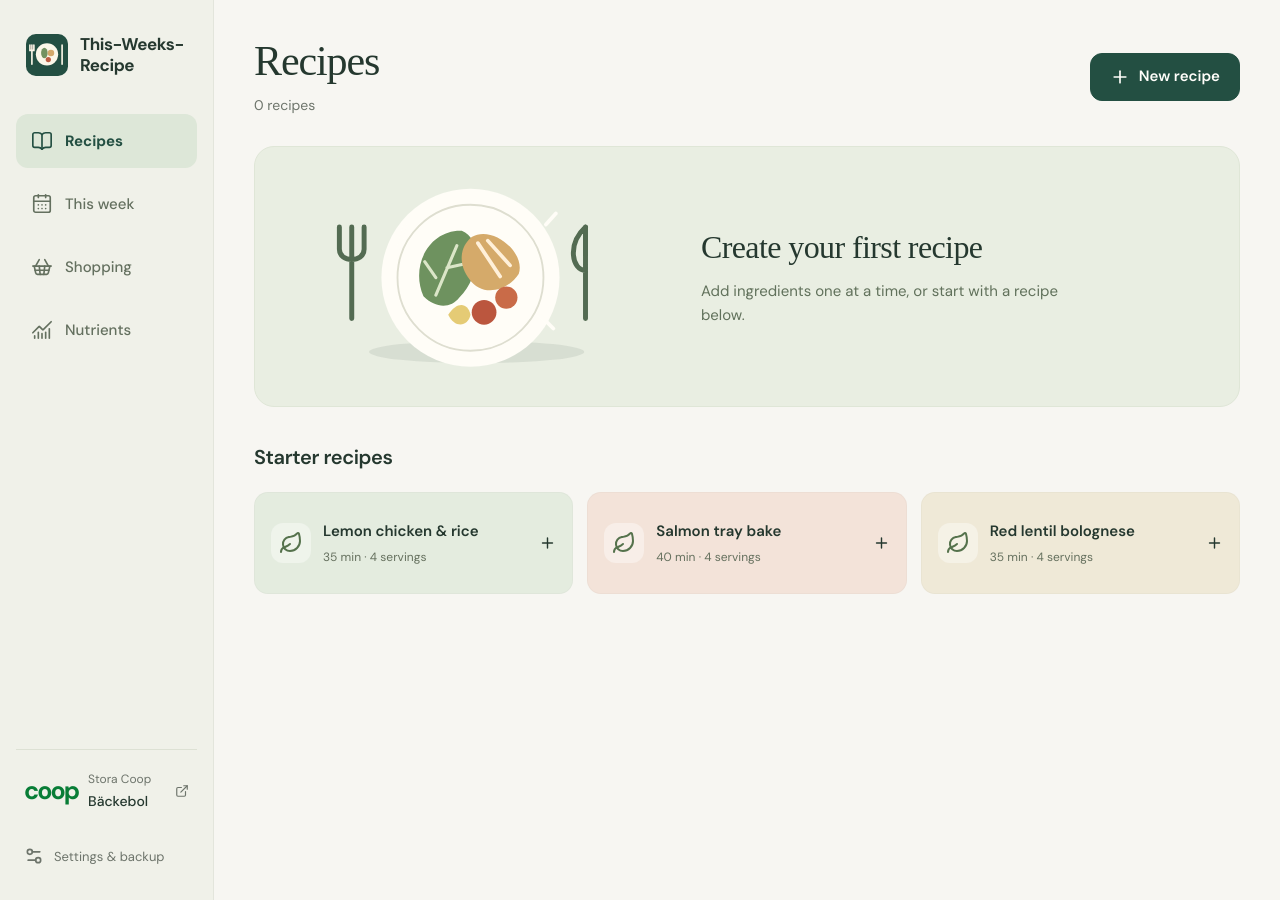
Test: recipe app › shows exactly the requested Nutrients placeholder
What coordinates should you click on to do the following:
click the button "Nutrients"
I would click on:
 (106, 330)
Its box is [16,302,197,356].
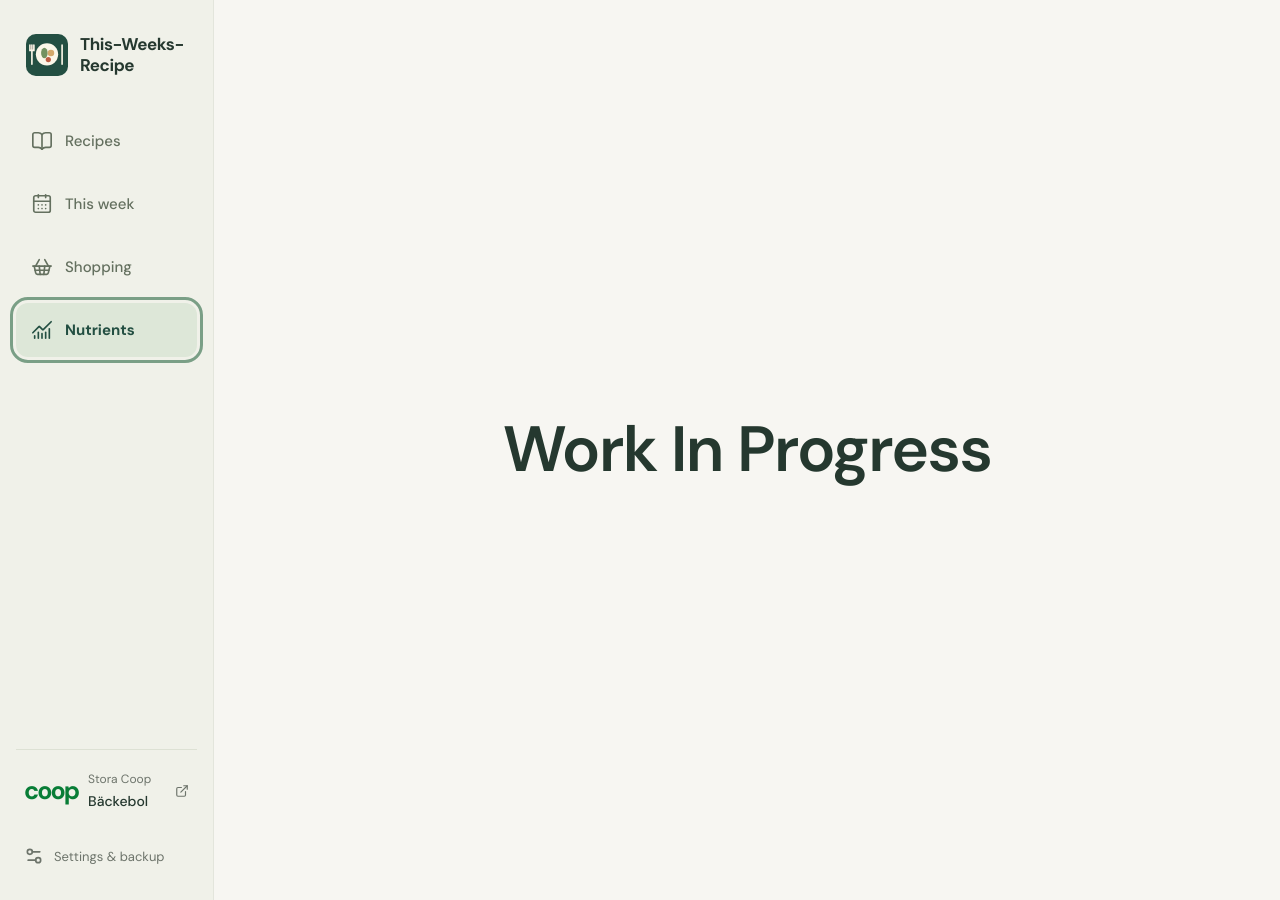
Now the heading "Work In Progress" is shown, box [503,414,991,486]
